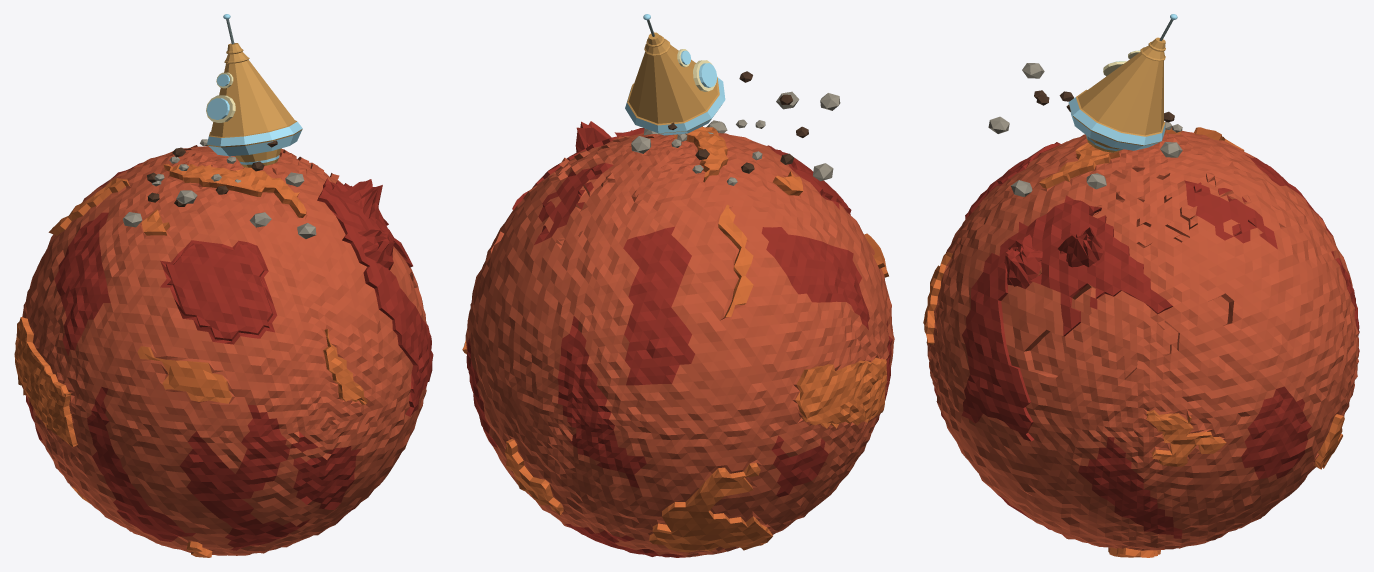
File: venus.fbx
The picture shows the model from 3 angles, left to right: view 1: azimuth 30°, elevation 25°; view 2: azimuth 150°, elevation 25°; view 3: azimuth 270°, elevation 25°; orthographic projection. The views are drawn at different scales.
Parts seen in each view (by area): view 1: Venus_1, 阵列; view 2: Venus_1, 阵列; view 3: Venus_1, 阵列.
Part boxes in pixels (x1,y1,x2,y2): Venus_1: [14, 145, 433, 557]; 阵列: [123, 14, 316, 238]; Venus_1: [462, 121, 894, 557]; 阵列: [625, 14, 840, 185]; Venus_1: [923, 127, 1359, 557]; 阵列: [988, 14, 1182, 196].
Size of the model in its own units: 100 by 134 by 100.
